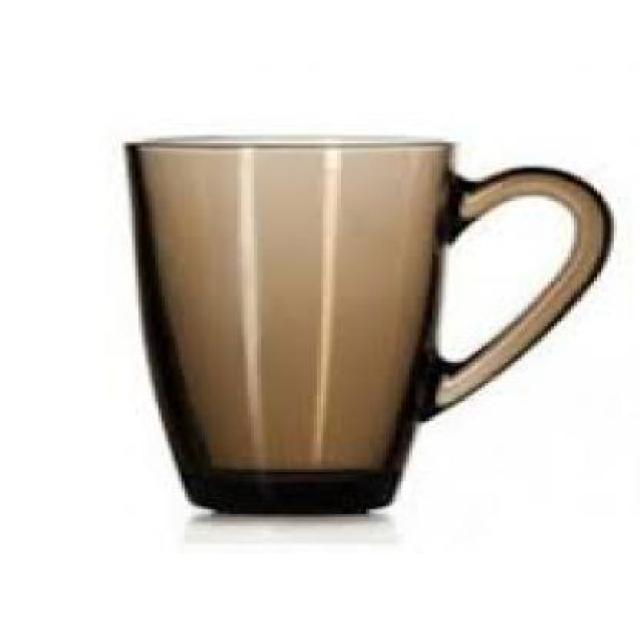kaca: (122, 135, 610, 514)
